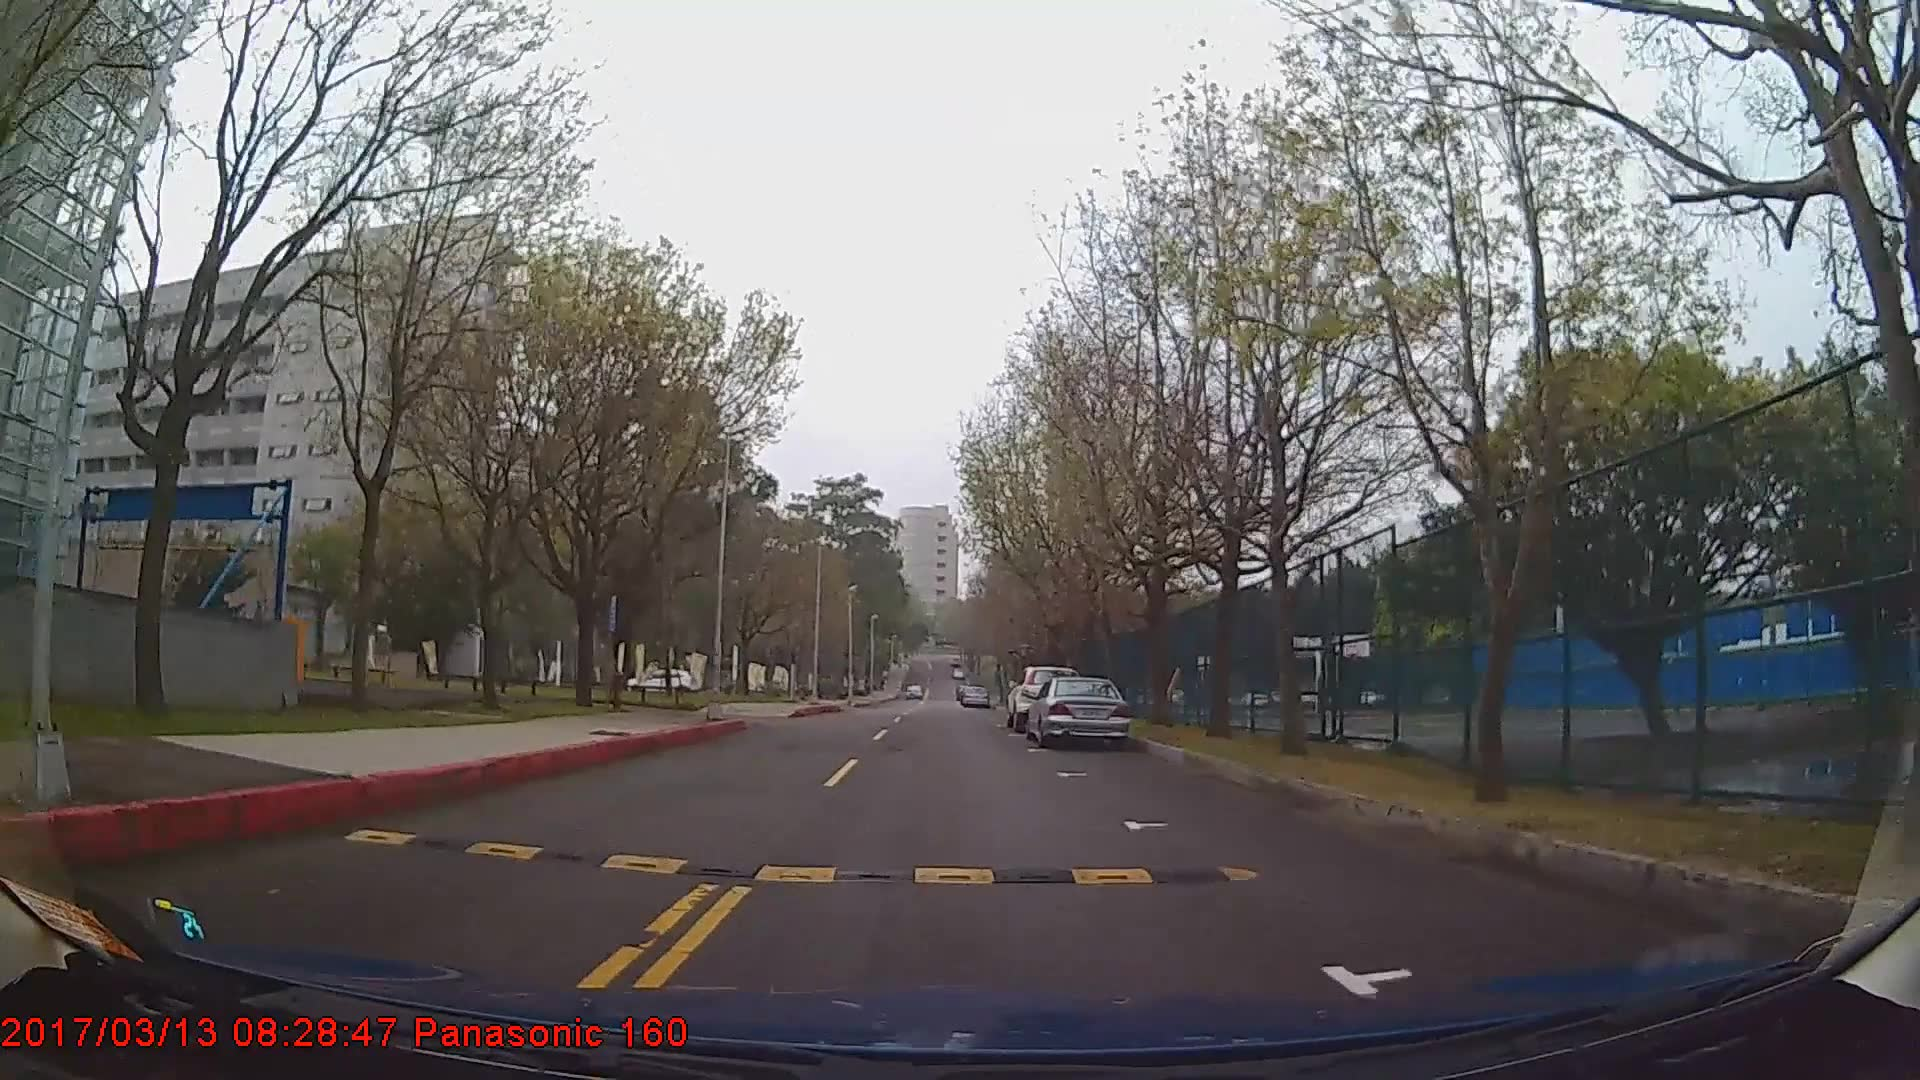vehicle: (1027, 676, 1133, 746), (1004, 665, 1077, 732), (957, 680, 992, 705)
